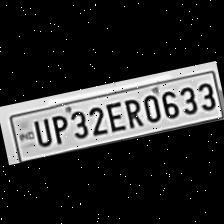0: (138, 89, 162, 123)
2: (84, 101, 108, 136)
3: (175, 80, 199, 116), (194, 76, 218, 112), (64, 105, 88, 140)
6: (156, 84, 180, 119)
E: (102, 96, 126, 132)
P: (47, 109, 70, 145)
R: (119, 93, 143, 129)
U: (28, 114, 52, 148)
